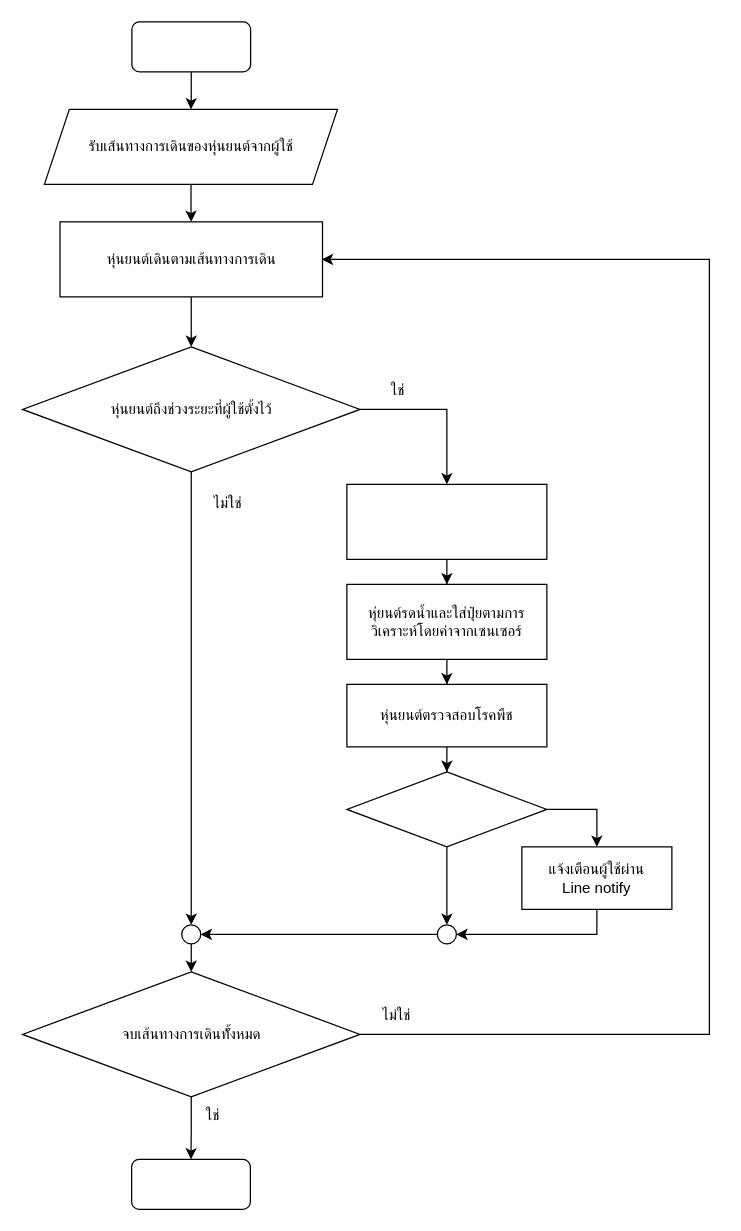
This 741x1231 diagram has some shape labels left out. Each missing label, with the centre of its shape:
"จบ" goes at (x=190, y=1183).
"พบโรคพืช" goes at (x=446, y=809).
"หุ่นยนต์ตรวจสอบความชื้น และแร่ธาตุในดิน" goes at (x=446, y=521).
"เริ่มต้น" goes at (x=191, y=46).
